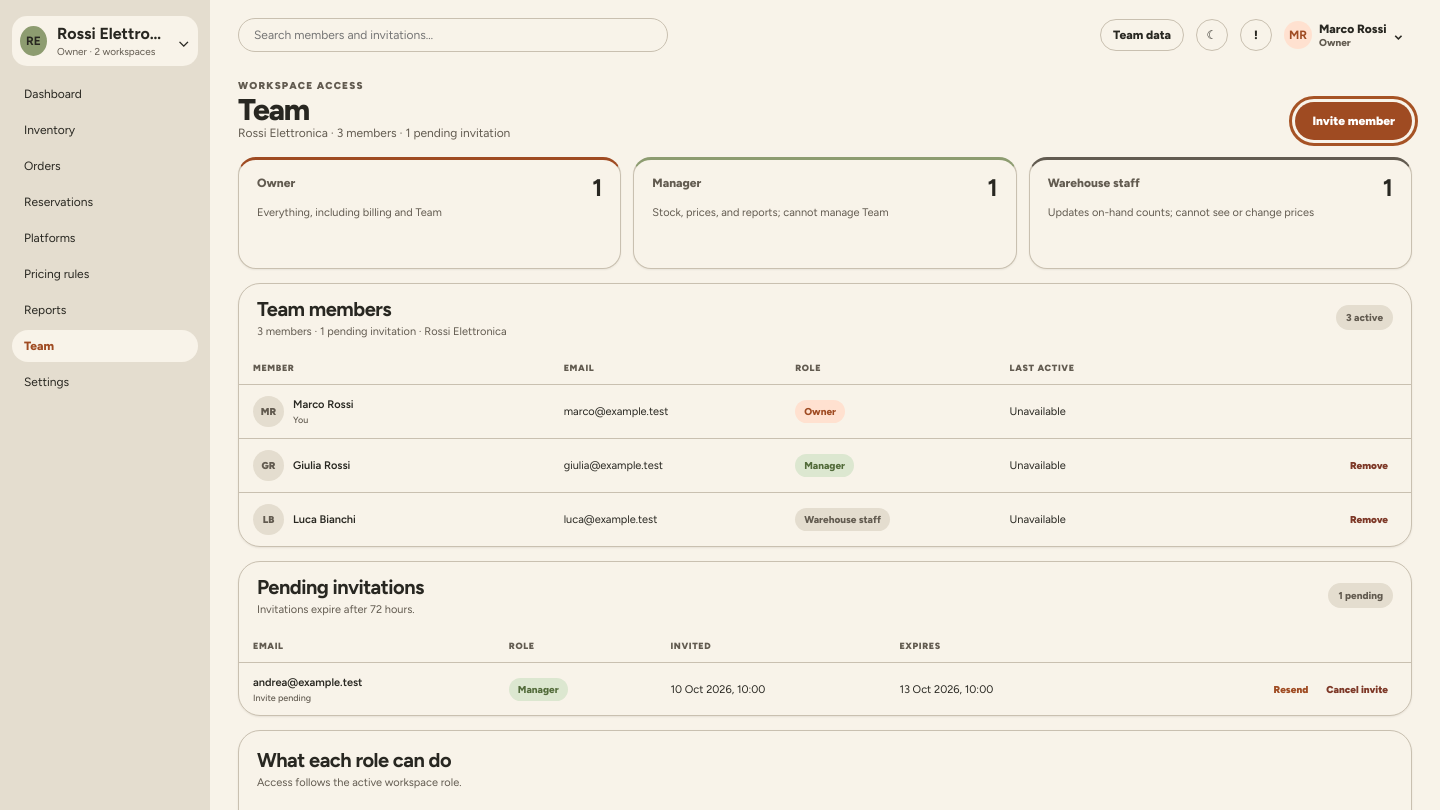
Test: Milestone 9 Team route › moves focus into the invitation dialog and restores it when closed with Escape
The image size is (1440, 810).
Click the button "Invite member": (1354, 121) [1295, 102, 1412, 140]
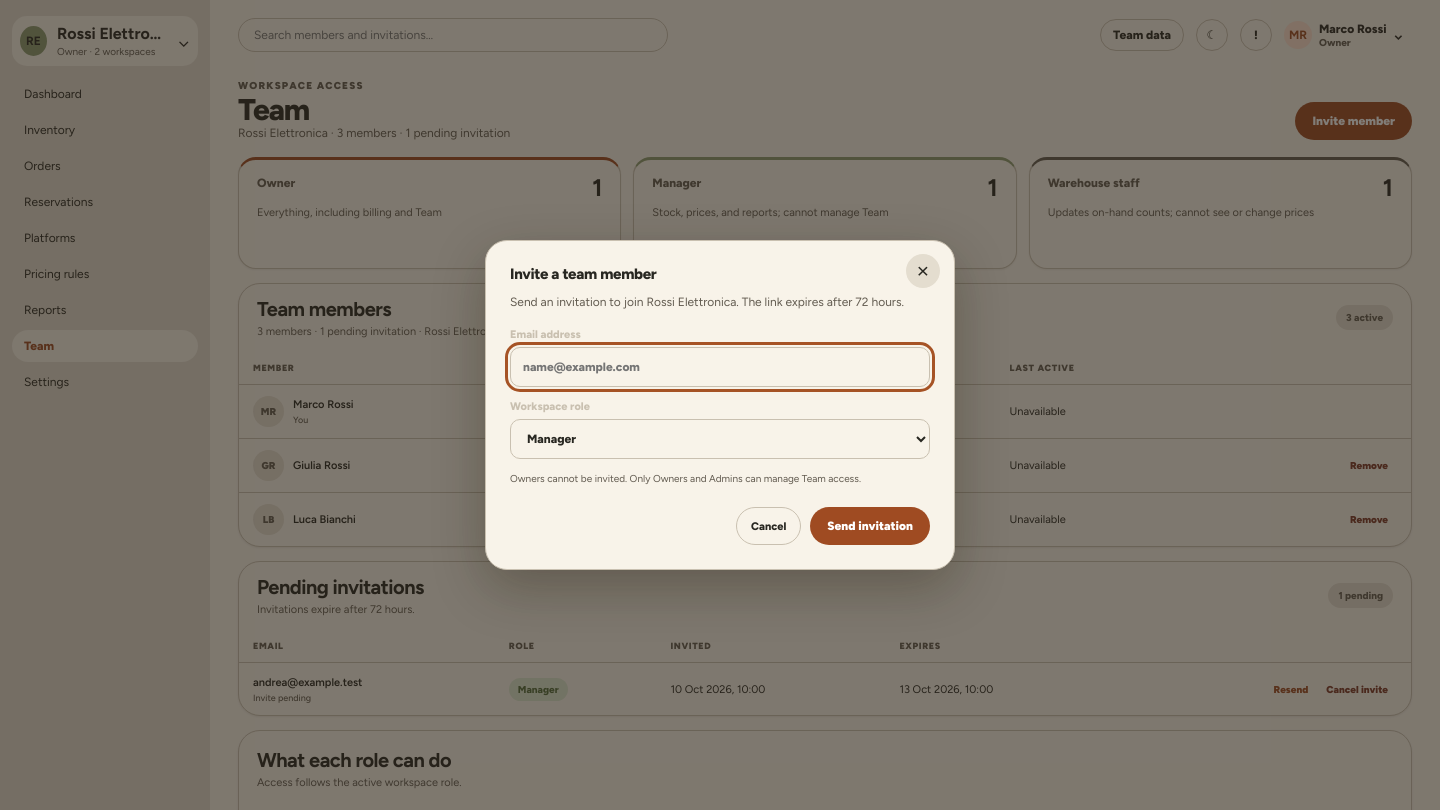
Press Escape in the field labelled "Email address", box [510, 347, 930, 387]
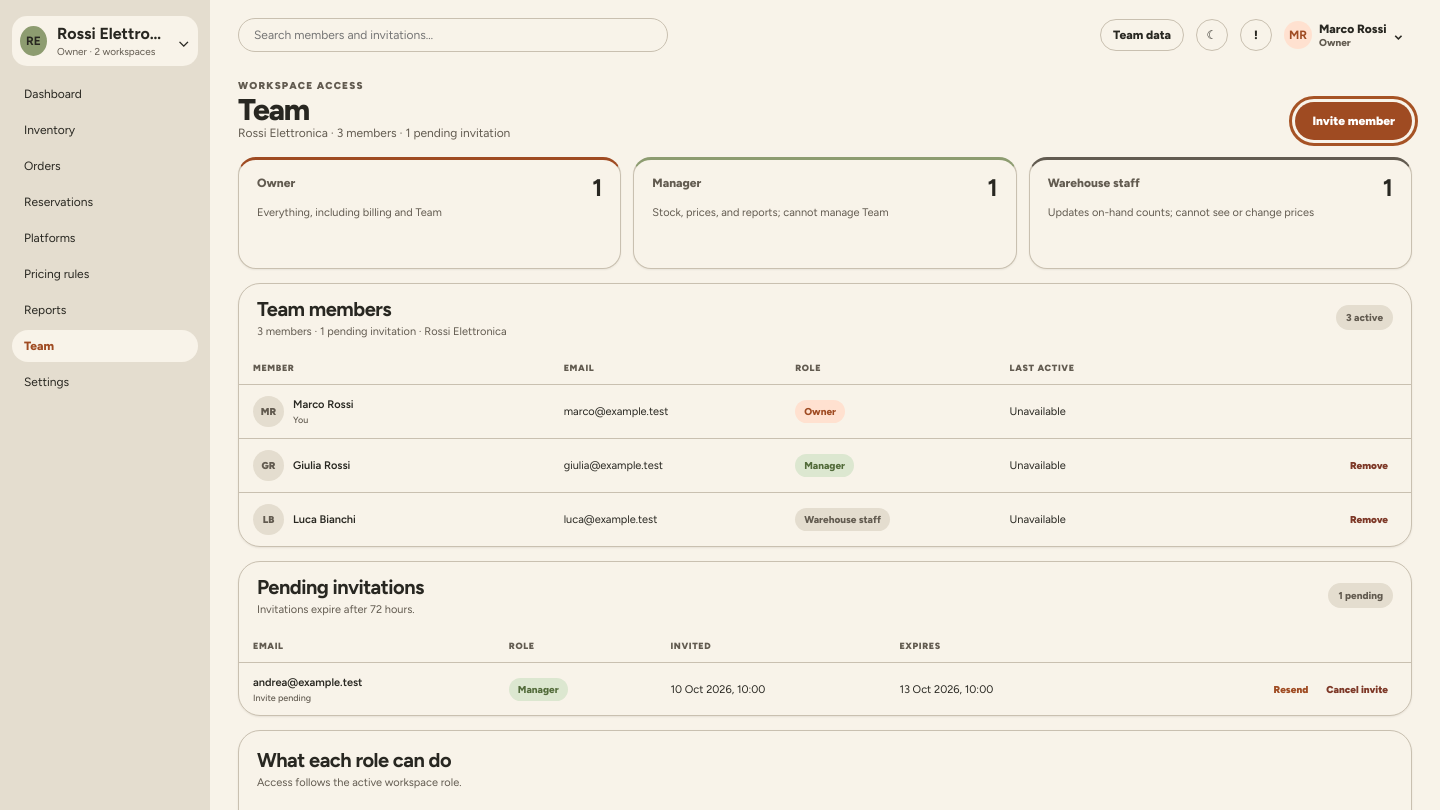
Expected: the button "×" is gone
